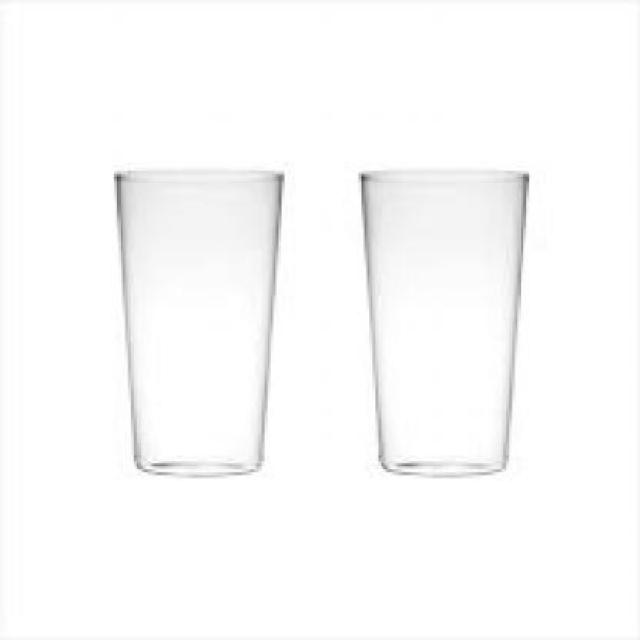kaca: (114, 164, 281, 476), (359, 165, 523, 472)
